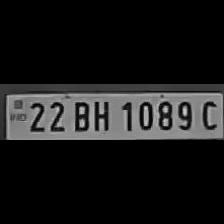0: (134, 98, 154, 132)
1: (114, 98, 134, 132)
2: (46, 99, 66, 134), (25, 99, 45, 133)
8: (154, 98, 174, 132)
9: (174, 98, 194, 132)
B: (70, 98, 90, 132)
C: (196, 97, 220, 130)
H: (90, 97, 112, 132)
